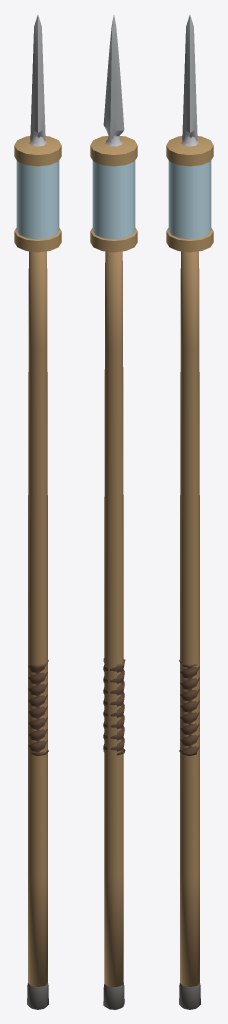
Rendered from syringe-spear.glb.
3 renders of one model, left to right at view 1: azimuth 90°, elevation 25°; view 2: azimuth 150°, elevation 25°; view 3: azimuth 270°, elevation 25°, orthographic.
Parts seen in each view (by area): view 1: syringe-spear; view 2: syringe-spear; view 3: syringe-spear.
Boxes of the visible parts, bbox=[...] form: syringe-spear: bbox=[14, 15, 61, 1009]; syringe-spear: bbox=[90, 15, 137, 1009]; syringe-spear: bbox=[166, 15, 213, 1009].
Size of the model in its own units: 0.19 by 4.39 by 0.19.
